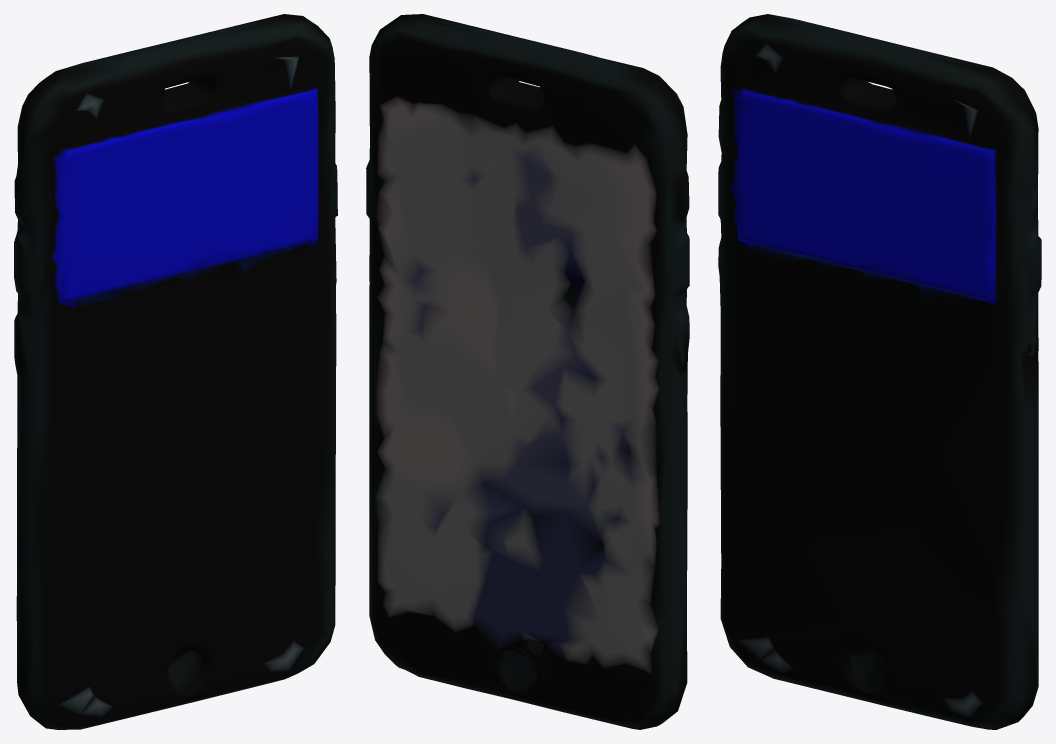
The model's file is gen3d-smartphone-lod0.glb.
3 renders of one model, left to right at view 1: azimuth 30°, elevation 25°; view 2: azimuth 150°, elevation 25°; view 3: azimuth 330°, elevation 25°, orthographic.
Parts seen in each view (by area): view 1: part_0; view 2: part_0; view 3: part_0.
Part boxes in pixels (box(x1,y1,x2,y2)): part_0: box(14, 14, 337, 729); part_0: box(366, 14, 689, 729); part_0: box(718, 14, 1041, 729).
Bounding box in the file's own units: 0.5025 × 0.9999 × 0.0709.
